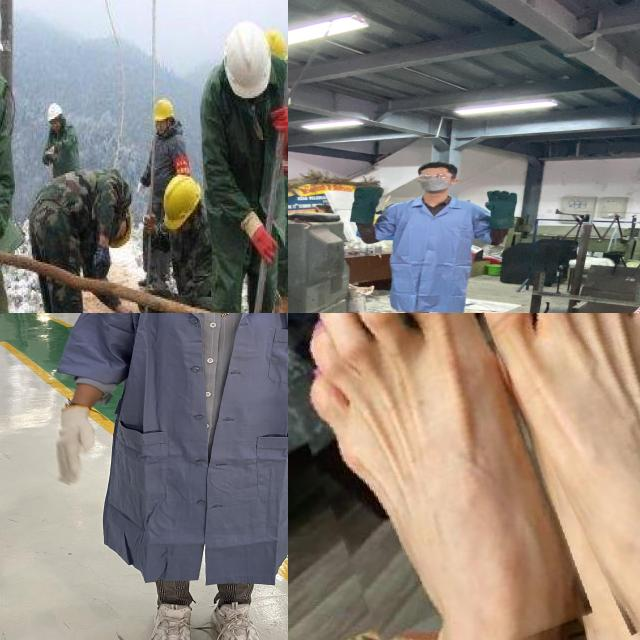Barefoots: (303, 313, 575, 640), (483, 313, 640, 640)
face_mask: (412, 172, 454, 192)
glasses: (414, 170, 456, 183)
hand_glove: (44, 407, 101, 488), (251, 223, 279, 265), (481, 190, 522, 213), (349, 182, 388, 204), (266, 100, 288, 134)
head_helmet: (219, 21, 274, 98), (158, 168, 204, 234), (150, 97, 177, 124), (44, 102, 67, 124)
head_nohelmet: (413, 161, 458, 174)
person: (47, 313, 288, 640), (191, 18, 288, 313), (338, 160, 521, 313), (0, 0, 73, 313), (22, 162, 143, 313), (141, 95, 195, 307), (160, 174, 224, 313), (37, 93, 80, 189)
shoes: (131, 598, 201, 640), (199, 598, 268, 640)
